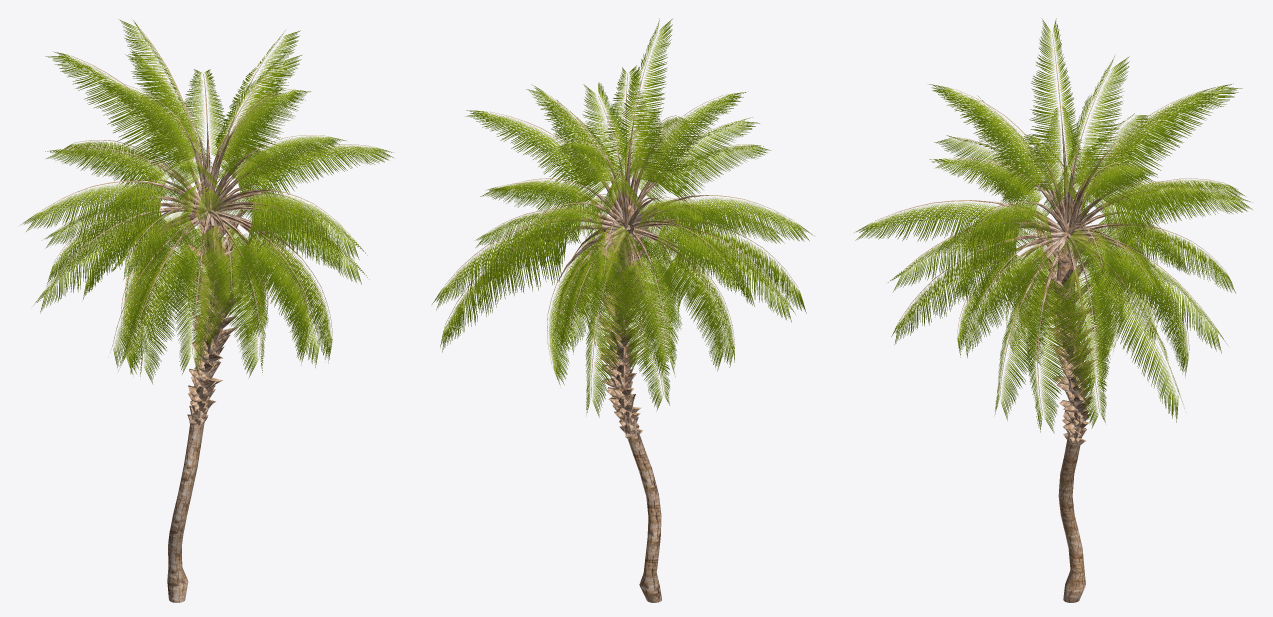
File: datepalm.glb
3 renders of one model, left to right at view 1: azimuth 30°, elevation 25°; view 2: azimuth 150°, elevation 25°; view 3: azimuth 270°, elevation 25°, orthographic. The views are drawn at different scales.
Parts seen in each view (by area): view 1: tree; view 2: tree; view 3: tree.
Part boxes in pixels (x1,y1,x2,y2): tree: (21,19,393,602); tree: (432,18,812,602); tree: (854,18,1252,602).
Bounding box in the file's own units: 143 × 218 × 150.
2 materials, 2 textured.
